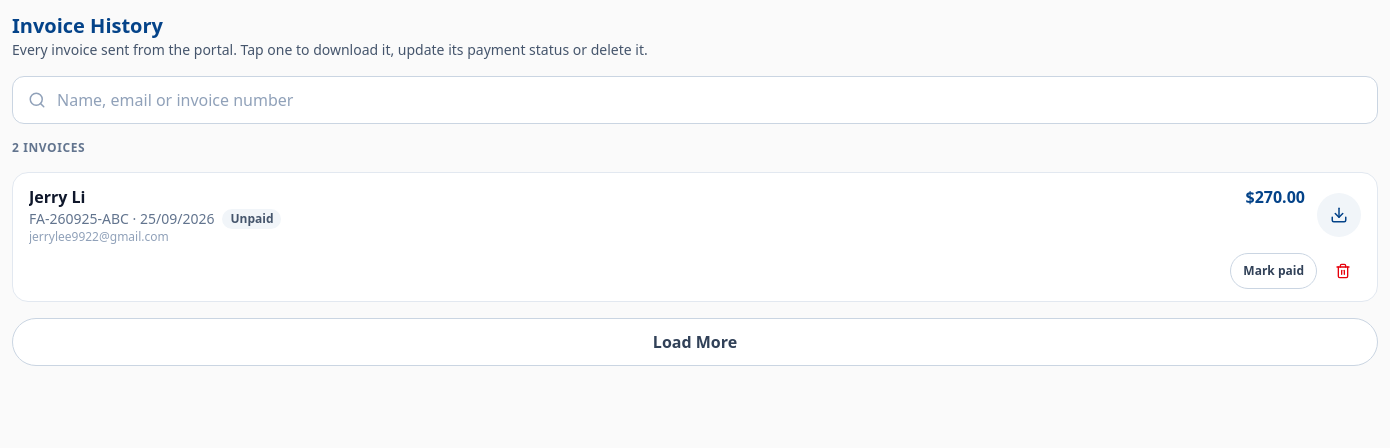
Scenario: InvoiceHistory › loads more results
Click the button "Load More" at (695, 342), box [12,318,1378,366]
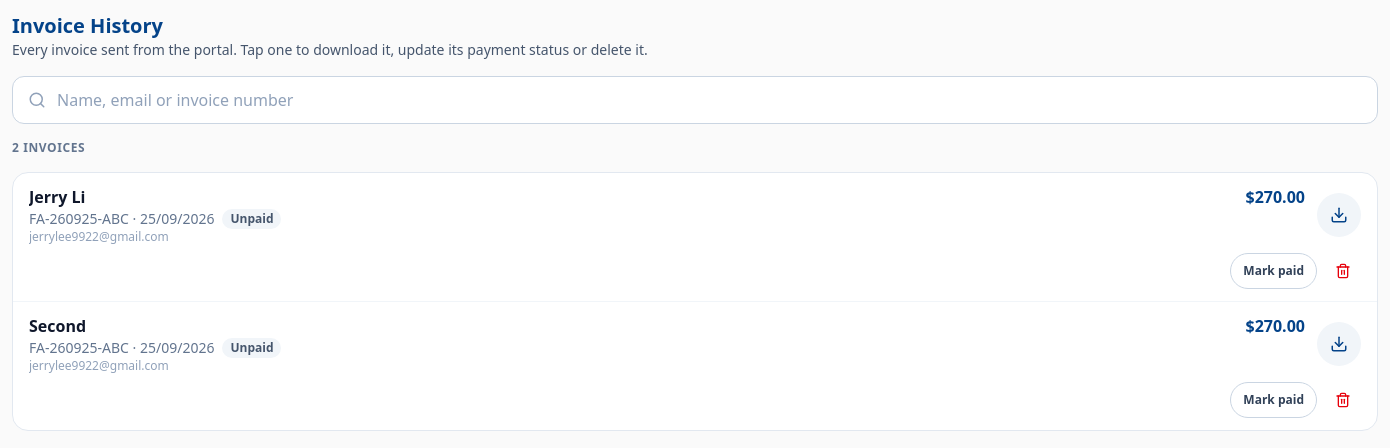
expect the text "Second" is shown: met, box [29,314,86,338]
expect the button "Load More" is gone: met
